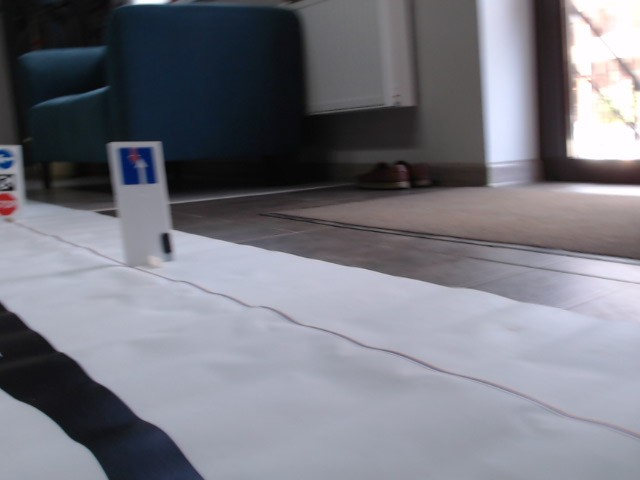priority_movement: (116, 146, 159, 186)
